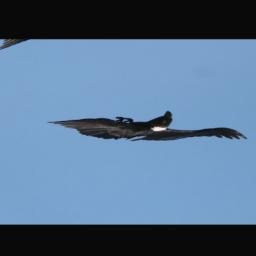Crow: (46, 87, 250, 175)
